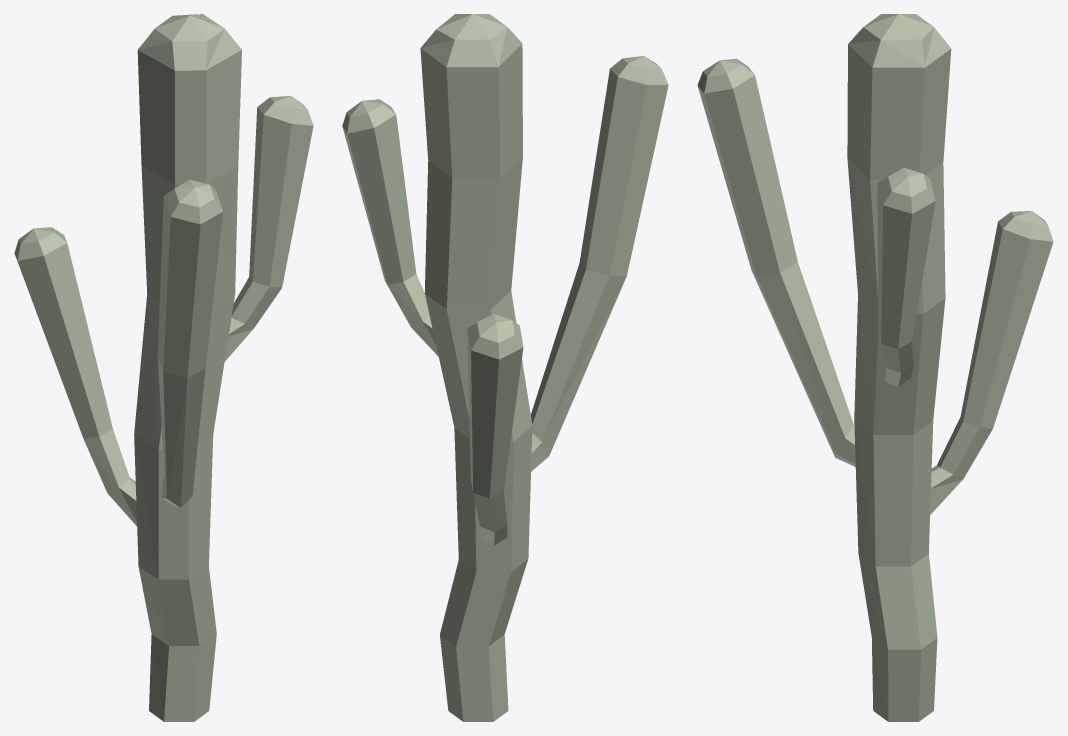
File: CarnegieaSaguaro.glb
3 renders of one model, left to right at view 1: azimuth 30°, elevation 25°; view 2: azimuth 150°, elevation 25°; view 3: azimuth 270°, elevation 25°, orthographic.
Parts seen in each view (by area): view 1: Trunk; view 2: Trunk; view 3: Trunk.
Part boxes in pixels (x1,y1,x2,y2): Trunk: (14, 14, 313, 721); Trunk: (342, 14, 668, 721); Trunk: (697, 14, 1053, 721).
Size of the model in its own units: 2.47 by 6.98 by 3.21.
